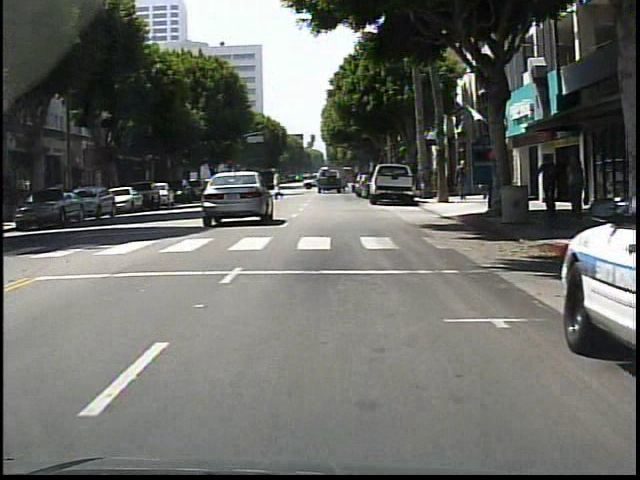person: (535, 154, 559, 213), (564, 152, 584, 221), (457, 156, 473, 199), (271, 168, 289, 201)
